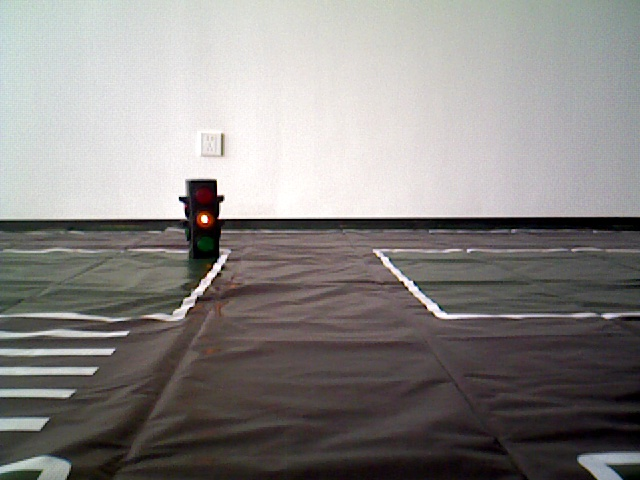yellow: (184, 181, 224, 258)
